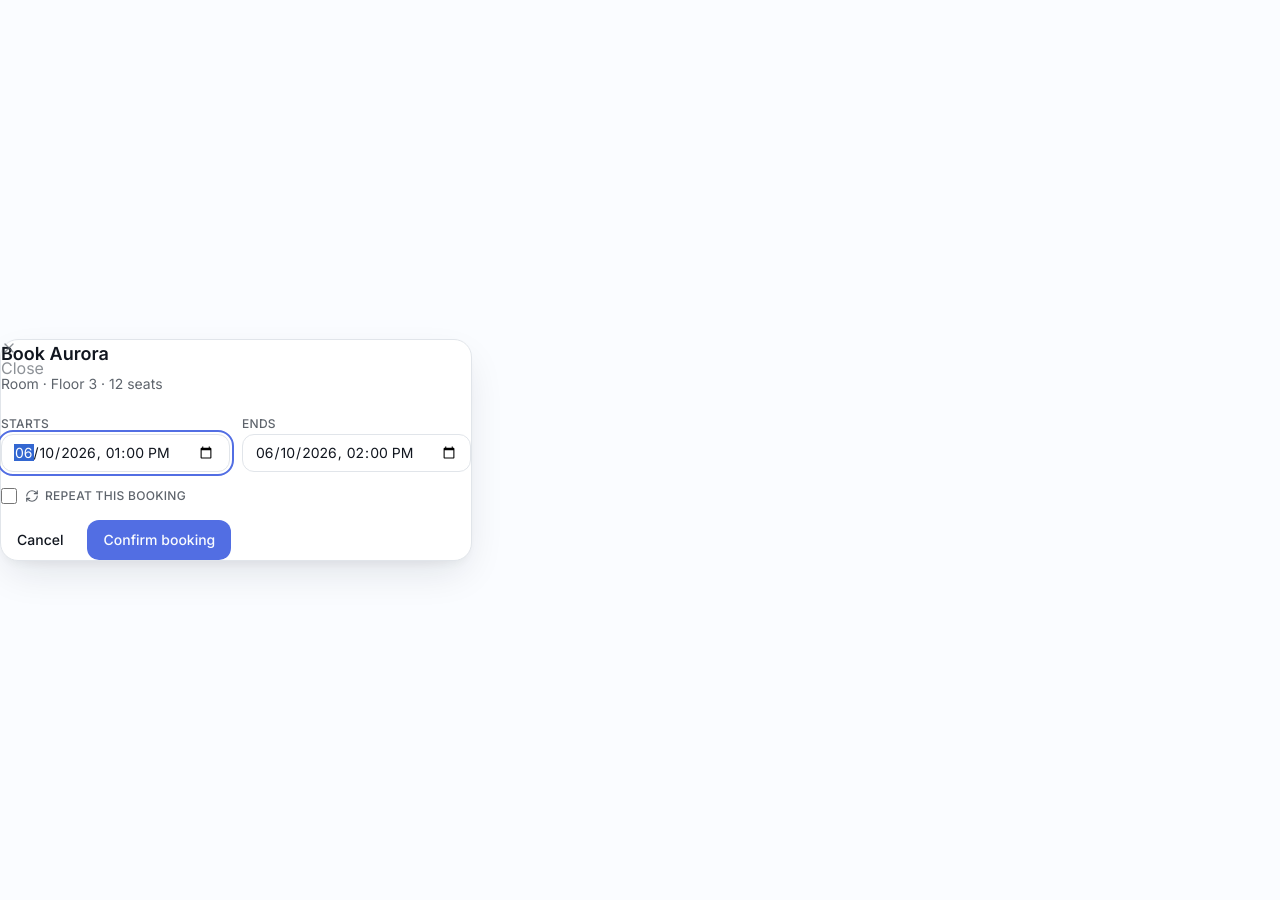
Test: BookDialog › shows recurrence options when repeat is toggled
The width and height of the screenshot is (1280, 900).
Step 1. Click the checkbox labelled "Repeat this booking" → click(9, 496), box left=1, top=488, right=17, bottom=504
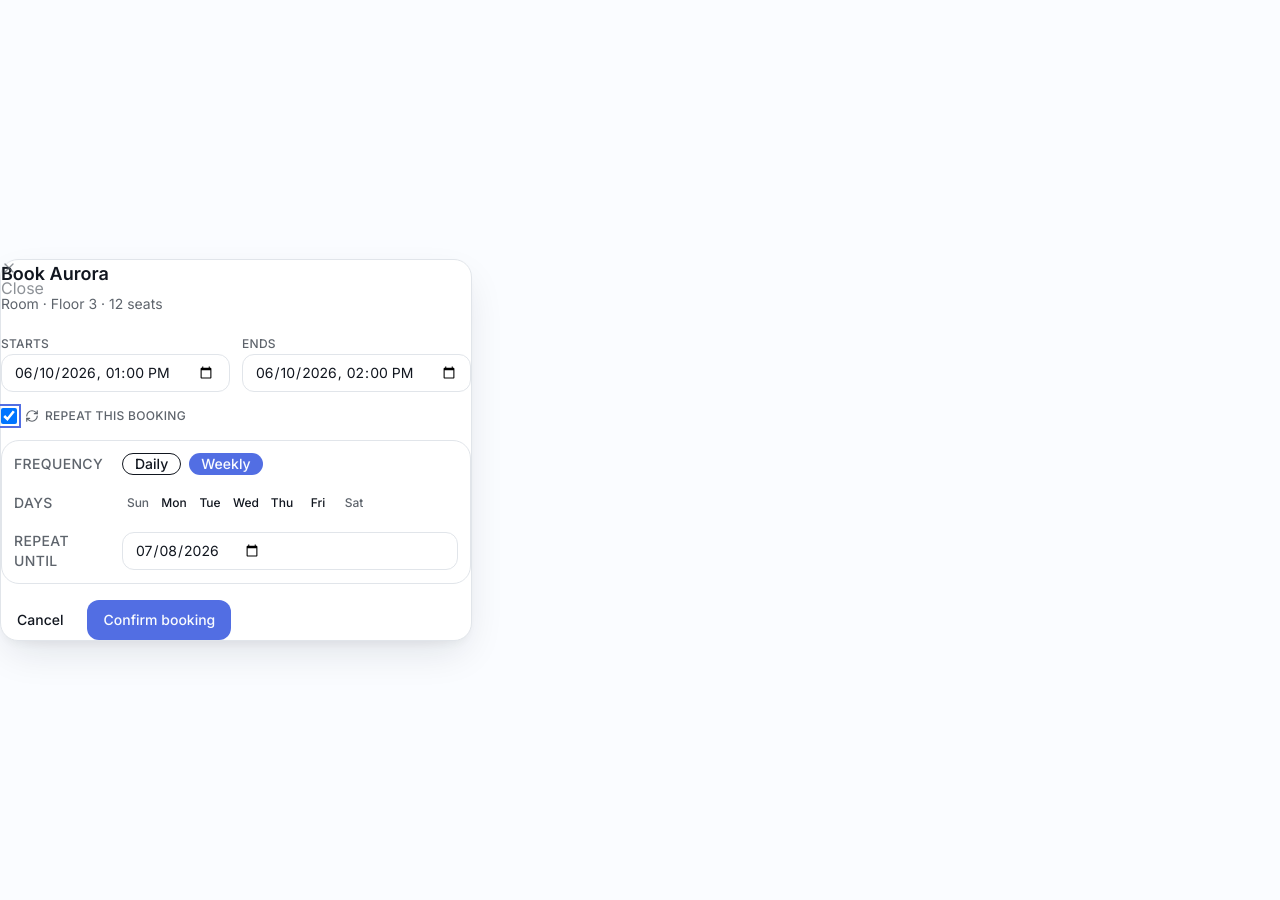
Check: the text "Frequency" is shown, box left=14, top=454, right=110, bottom=474
Check: the button "Daily" is shown, box left=122, top=453, right=181, bottom=475
Check: the button "Weekly" is shown, box left=189, top=453, right=263, bottom=475
